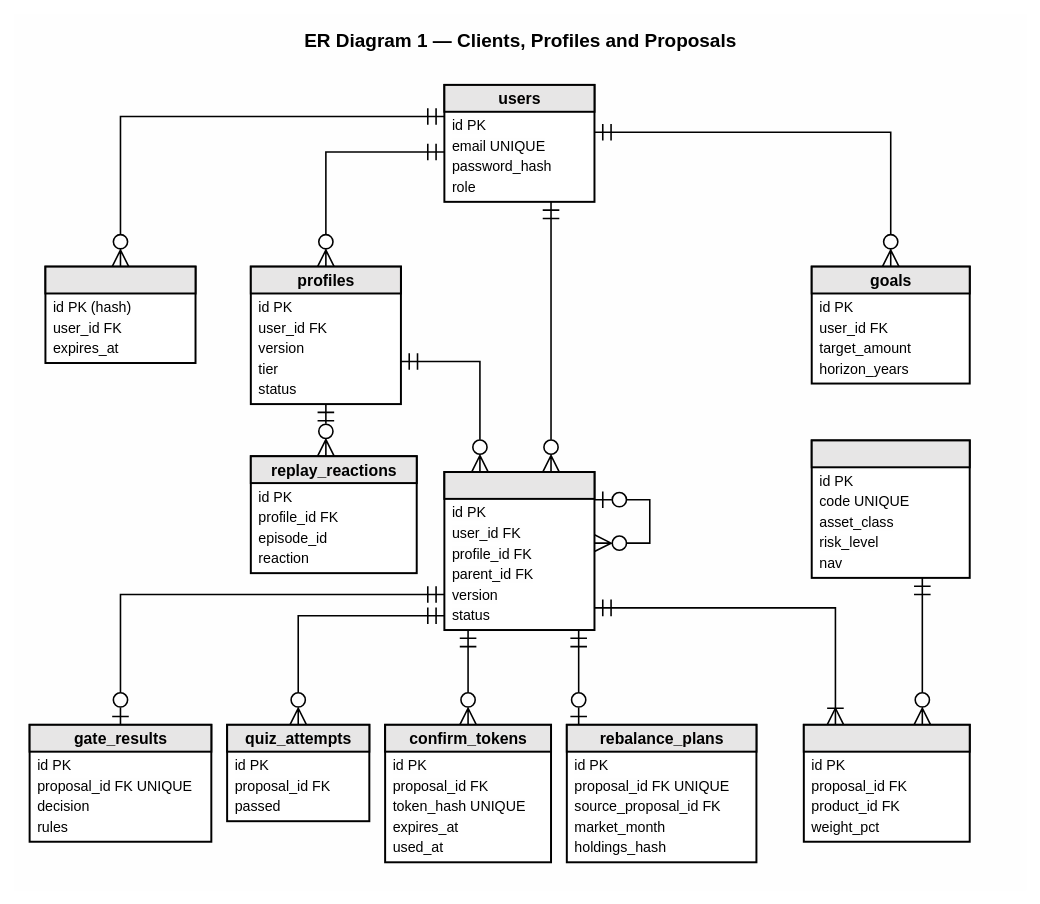
Image size: 1040x904. Some labels were removed from this diagram. Each missing label, with the centre of its shape:
products: pixel 890 453
proposal_items: pixel 886 737
proposals: pixel 519 485
sessions: pixel 120 279
